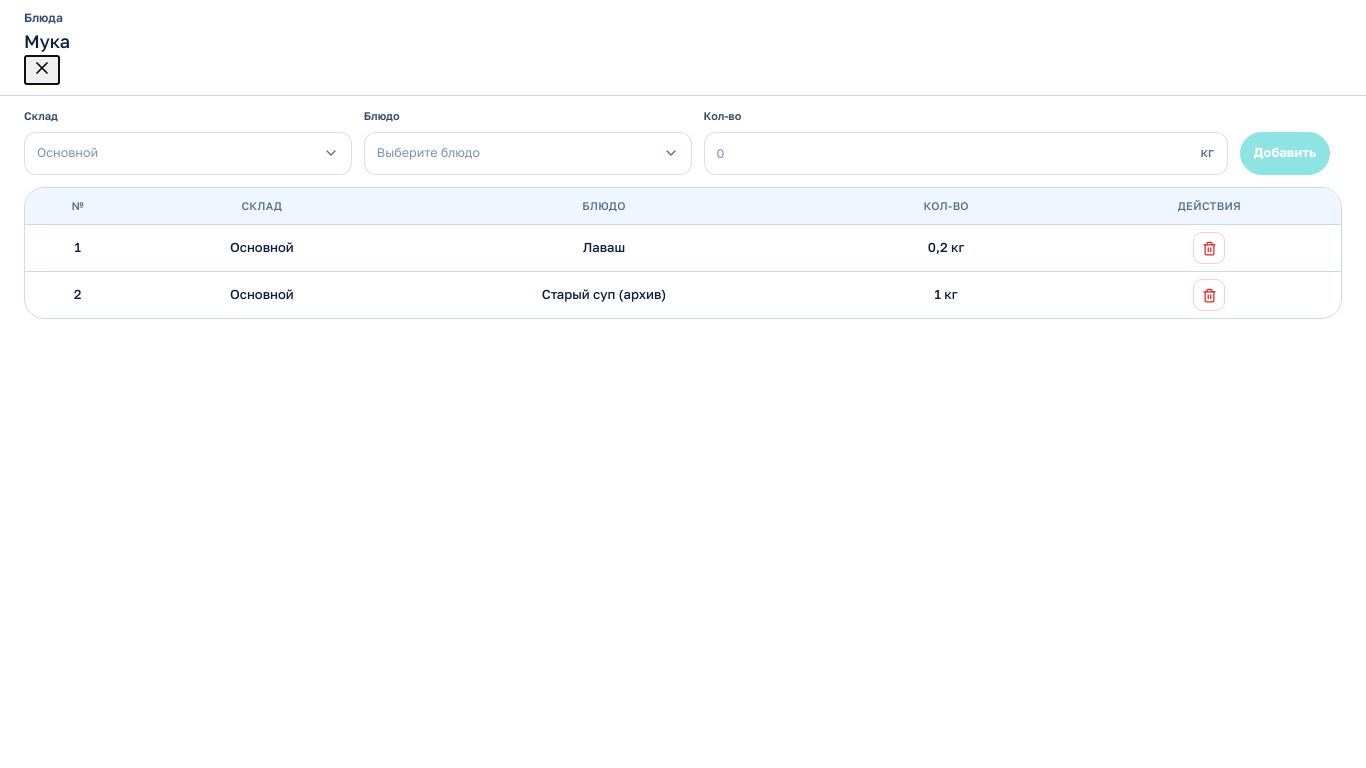
Test: Raw ingredient dishes usage › adds dish usage through canonical PATCH
This screenshot has width=1366, height=768.
Expected: the heading "Блюда" is shown, [24, 10, 63, 25]
Click the dropdown labelled "блюдо" at (428, 152), box [364, 132, 692, 174]
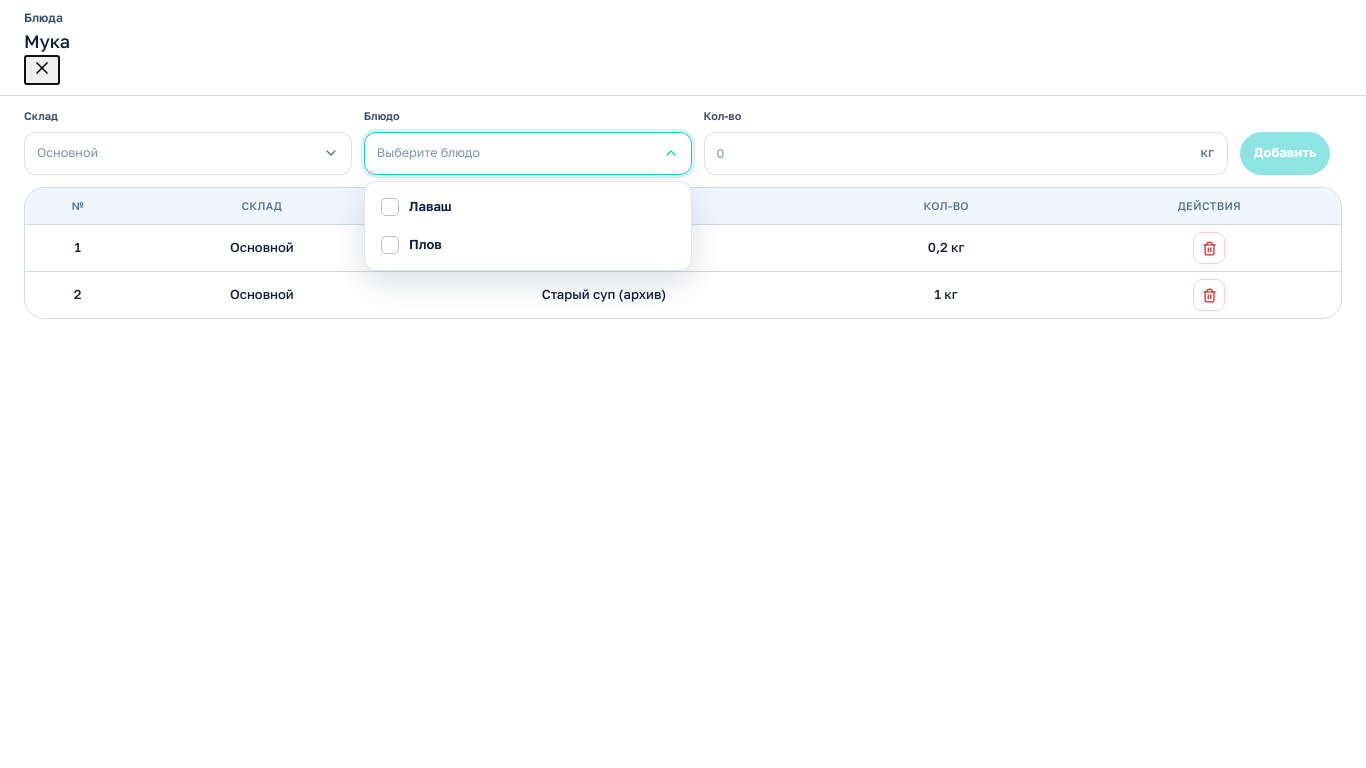
Click the option "Плов" at (425, 244), box [371, 226, 685, 264]
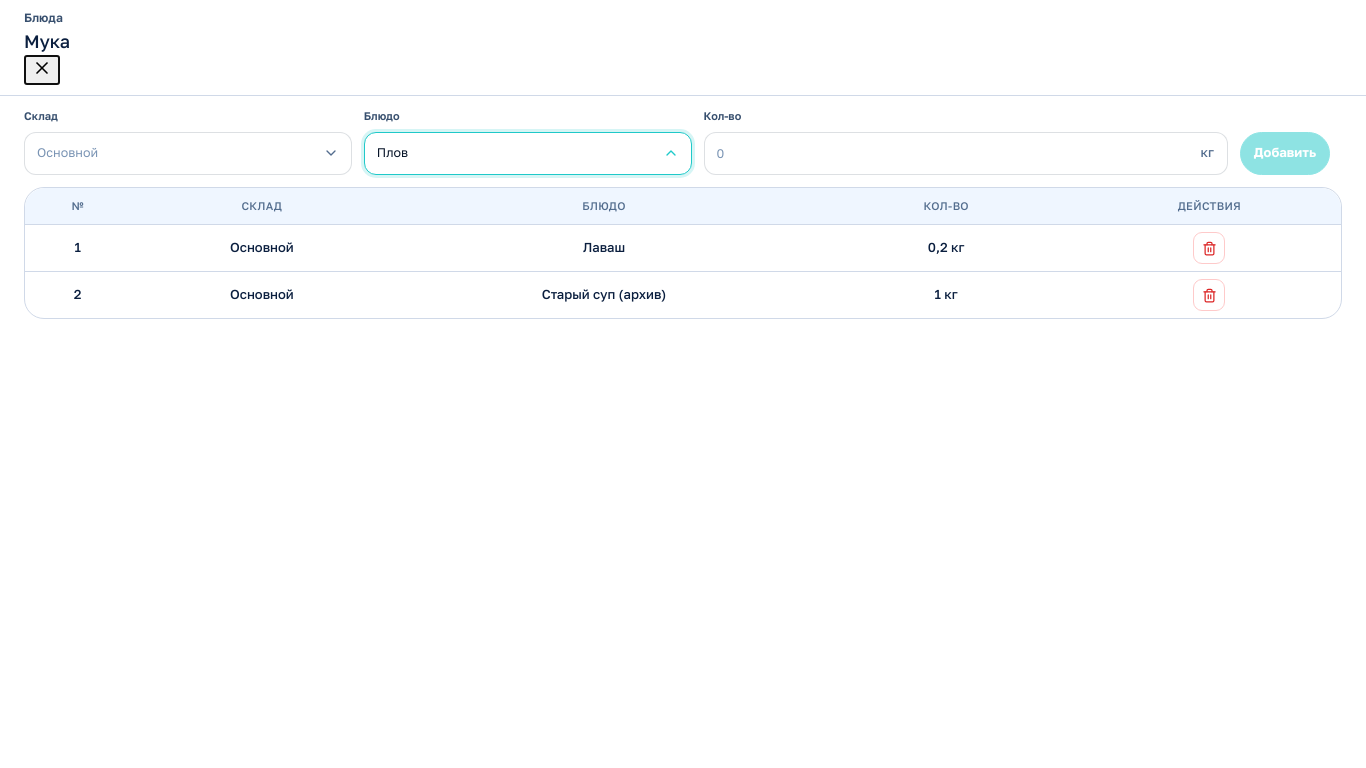
Type "0,5" into the field named "Количество" at (966, 153), box [704, 132, 1228, 174]
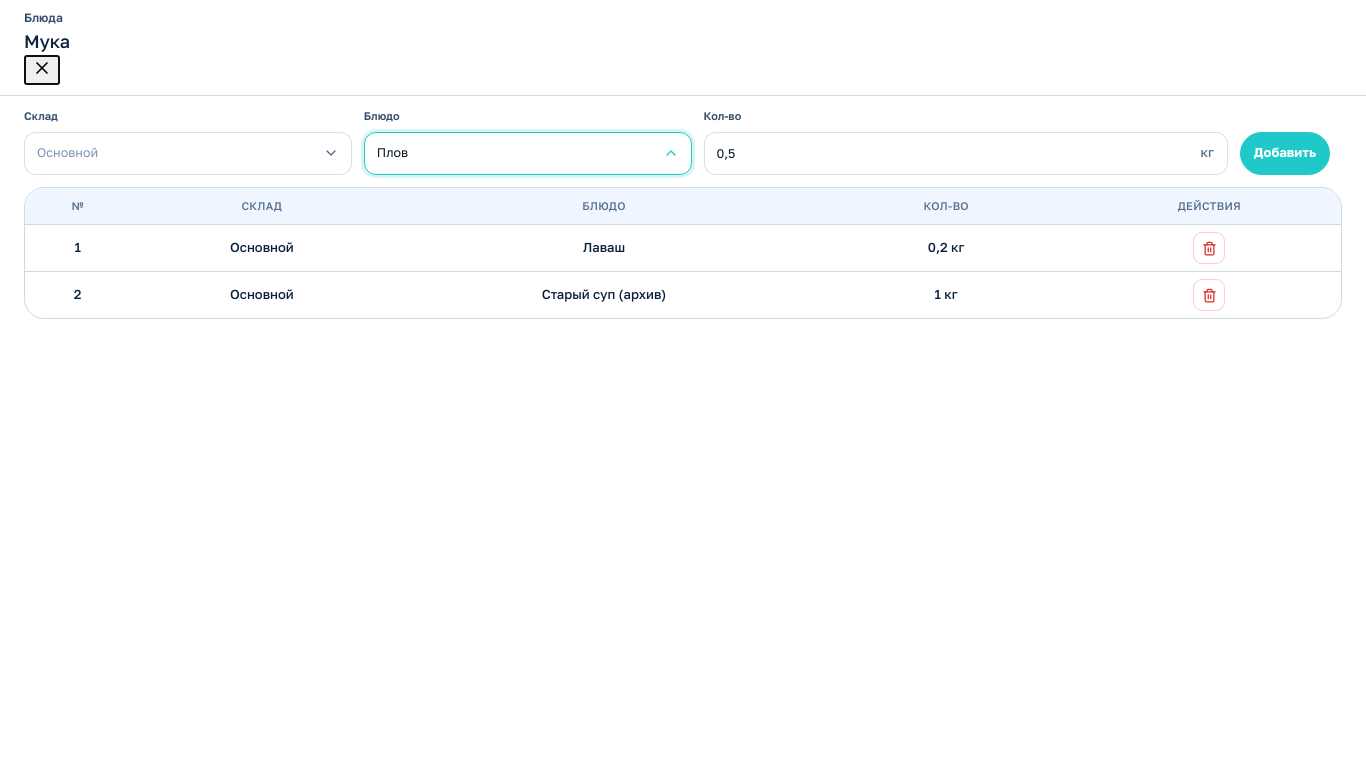
Click the button "Добавить" at (1285, 153), box [1240, 132, 1330, 174]
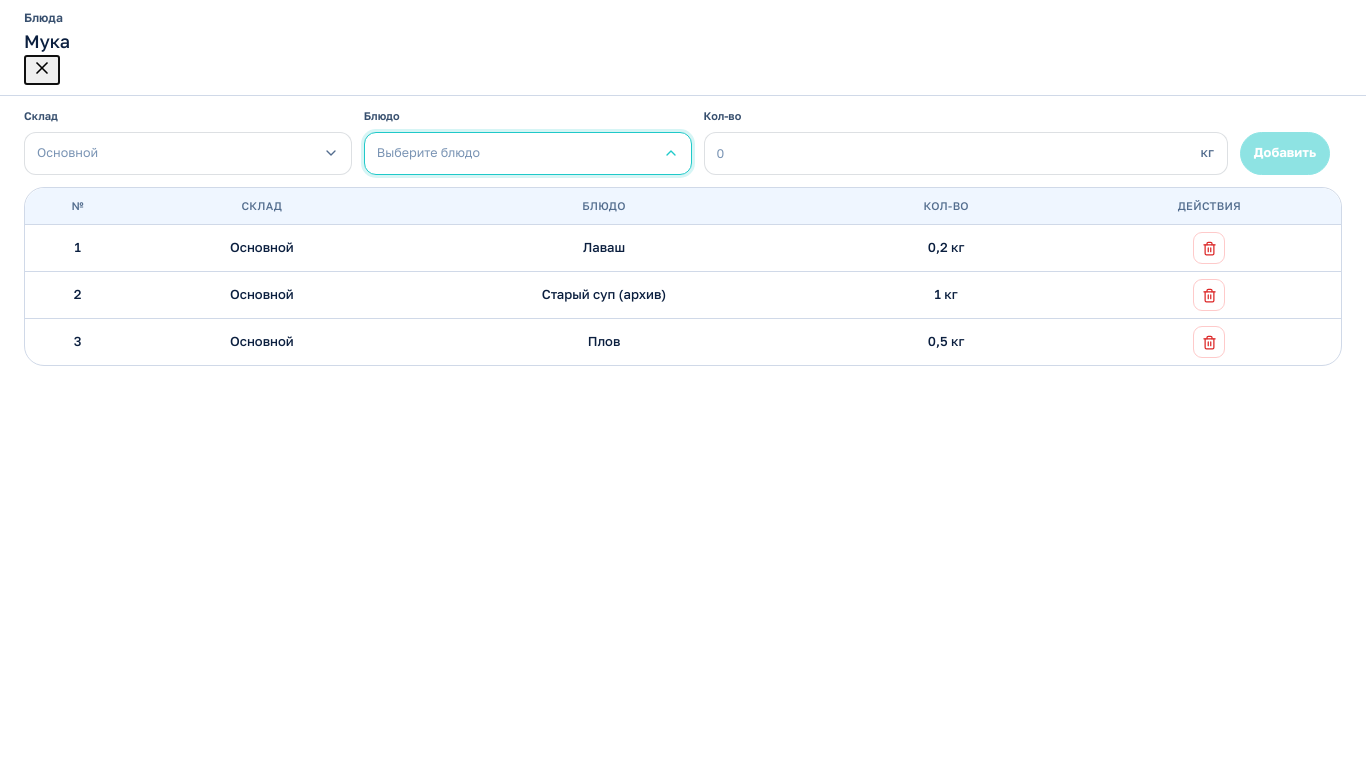
Expected: the text "Плов" is shown, [394, 318, 815, 365]
Expected: the text "Основной" is shown 3 times, [130, 224, 394, 272]; [130, 272, 394, 318]; [130, 318, 394, 365]
